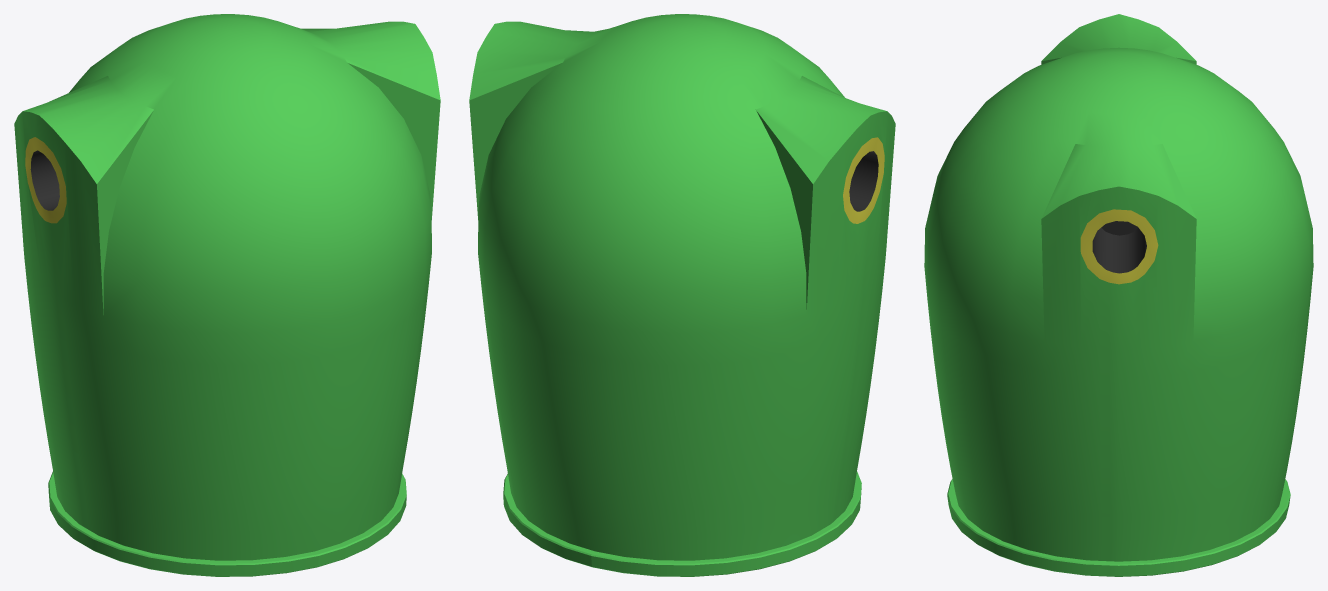
The model's file is ContenedorVidrio.fbx.
3 renders of one model, left to right at view 1: azimuth 30°, elevation 25°; view 2: azimuth 150°, elevation 25°; view 3: azimuth 270°, elevation 25°, orthographic. The views are drawn at different scales.
Visible parts, largest first — view 1: ContenedorVidrio; view 2: ContenedorVidrio; view 3: ContenedorVidrio.
Boxes of the visible parts, left/top/right/bottom form: ContenedorVidrio: left=14, top=14, right=440, bottom=576; ContenedorVidrio: left=469, top=14, right=895, bottom=576; ContenedorVidrio: left=924, top=14, right=1313, bottom=576.
Bounding box in the file's own units: 521 × 622 × 497.
